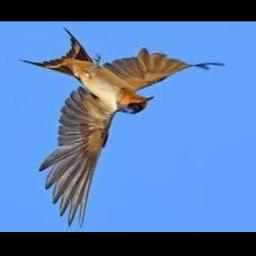Swallow: (17, 26, 224, 228)
